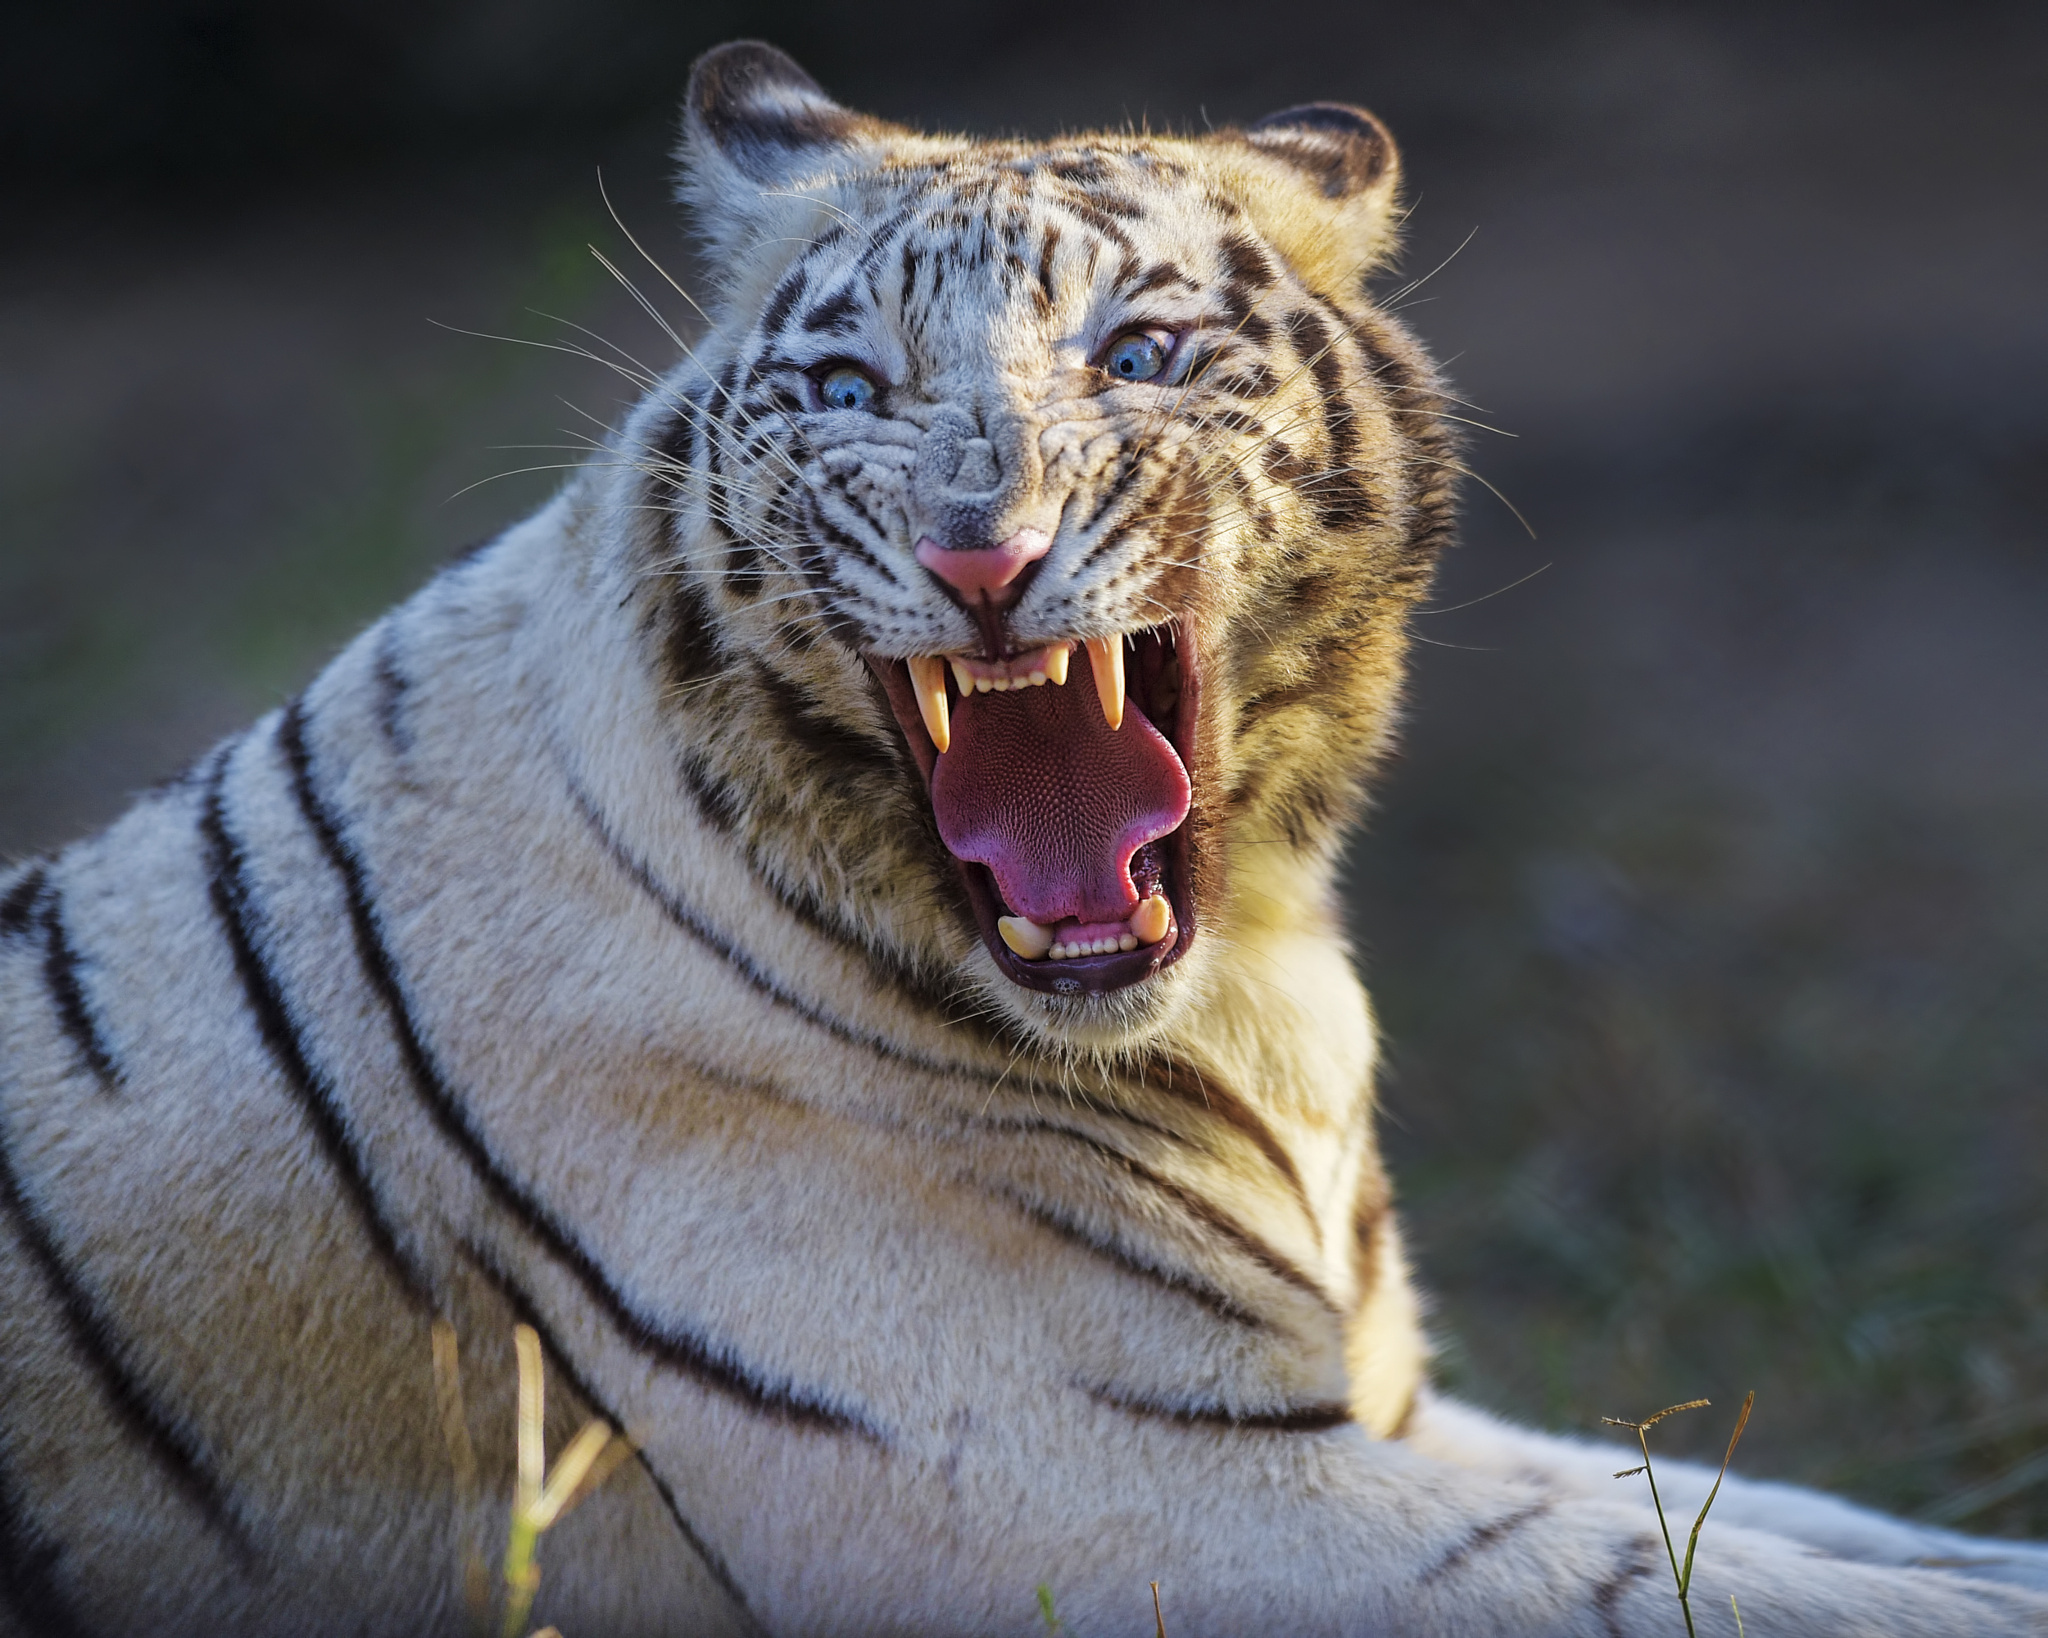tiger: (182, 53, 1824, 1573)
